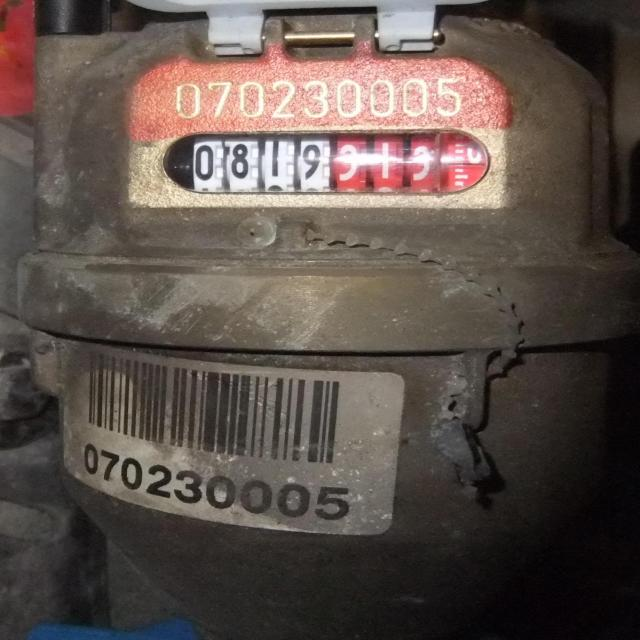gaz_meter: (115, 46, 534, 237)
indication: (176, 130, 484, 196)
